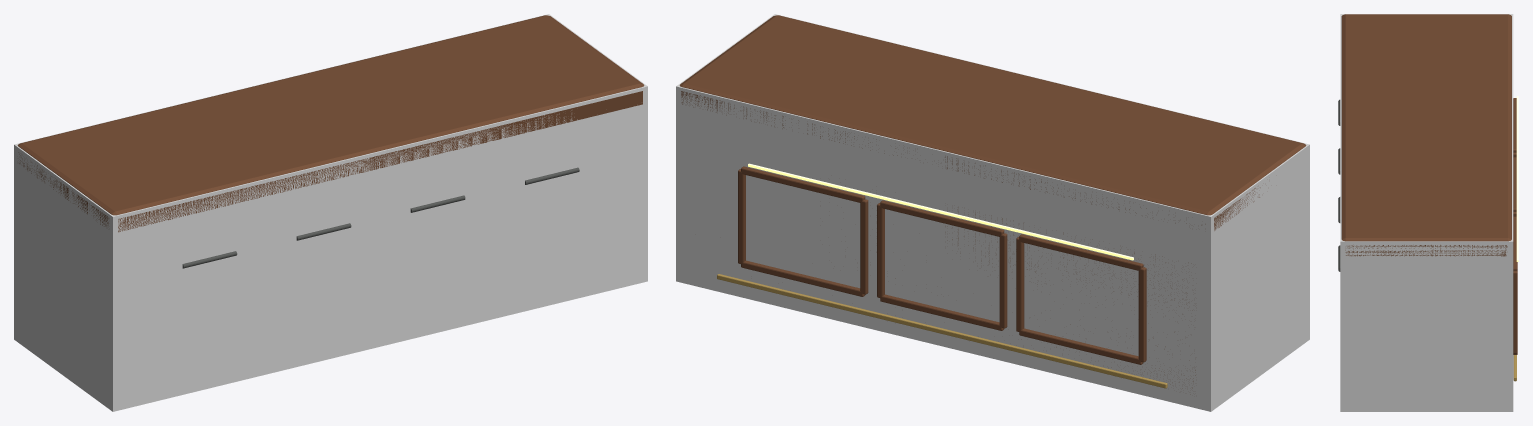
The model's file is luxury.glb.
The picture shows the model from 3 angles, left to right: view 1: azimuth 30°, elevation 25°; view 2: azimuth 150°, elevation 25°; view 3: azimuth 270°, elevation 25°; orthographic projection. The views are drawn at different scales.
Parts seen in each view (by area): view 1: COL_CHECKOUT_COUNTERS_LUXURY, Counter_Worktop.003; view 2: COL_CHECKOUT_COUNTERS_LUXURY, Counter_Worktop.003, Counter_BrassToeKick, Counter_IntegratedLight, Counter_Panel_2_Top.001, Counter_Panel_1_Top.002, Counter_Panel_3_Top, Counter_Panel_2_Bottom.001, Counter_Panel_3_Bottom, Counter_Panel_1_Bottom.002, Counter_Panel_3_Left, Counter_Panel_1_Left.002 (+4 smaller); view 3: Counter_Worktop.003, COL_CHECKOUT_COUNTERS_LUXURY, Counter_IntegratedLight, Counter_Panel_3_Right, Counter_Panel_3_Top, Counter_Panel_1_Top.002, Counter_Panel_2_Top.001.
Boxes of the visible parts, x1,y1,x2,y2 form: COL_CHECKOUT_COUNTERS_LUXURY: [14, 14, 647, 411]; Counter_Worktop.003: [17, 15, 644, 232]; COL_CHECKOUT_COUNTERS_LUXURY: [676, 14, 1309, 411]; Counter_Worktop.003: [679, 15, 1306, 230]; Counter_BrassToeKick: [717, 274, 1167, 388]; Counter_IntegratedLight: [748, 163, 1133, 260]; Counter_Panel_2_Top.001: [880, 200, 1004, 236]; Counter_Panel_1_Top.002: [1019, 234, 1143, 270]; Counter_Panel_3_Top: [741, 166, 865, 202]; Counter_Panel_2_Bottom.001: [880, 294, 1004, 330]; Counter_Panel_3_Bottom: [741, 260, 864, 296]; Counter_Panel_1_Bottom.002: [1019, 328, 1143, 364]; Counter_Panel_3_Left: [860, 199, 868, 294]; Counter_Panel_1_Left.002: [1138, 267, 1146, 362]; Counter_Worktop.003: [1341, 14, 1511, 256]; COL_CHECKOUT_COUNTERS_LUXURY: [1340, 14, 1513, 411]; Counter_IntegratedLight: [1516, 96, 1518, 261]; Counter_Panel_3_Right: [1513, 271, 1517, 353]; Counter_Panel_3_Top: [1513, 216, 1517, 271]; Counter_Panel_1_Top.002: [1513, 98, 1516, 152]; Counter_Panel_2_Top.001: [1513, 157, 1516, 211].
Size of the model in its own units: 3.07 by 1.08 by 1.03.
